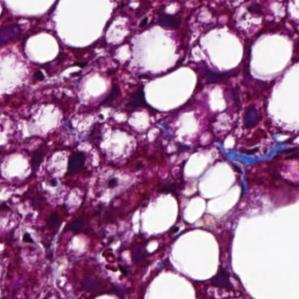inflammation: (60, 135, 104, 197), (228, 93, 273, 146)
